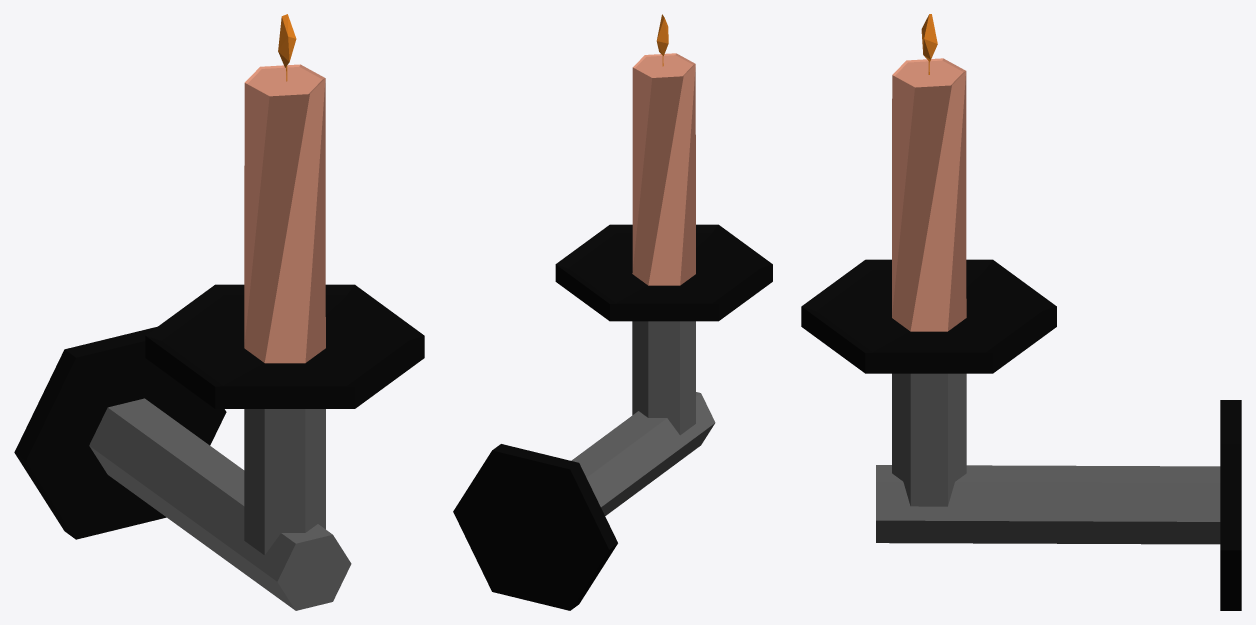
Rendered from Candle_04.fbx.
3 renders of one model, left to right at view 1: azimuth 30°, elevation 25°; view 2: azimuth 150°, elevation 25°; view 3: azimuth 270°, elevation 25°, orthographic. The views are drawn at different scales.
Visible parts, largest first — view 1: Candle_04; view 2: Candle_04; view 3: Candle_04.
Part boxes in pixels (x1,y1,x2,y2): Candle_04: [14, 14, 424, 610]; Candle_04: [453, 14, 772, 610]; Candle_04: [801, 14, 1241, 610].
Size of the model in its own units: 17.71 by 50.86 by 35.24.
